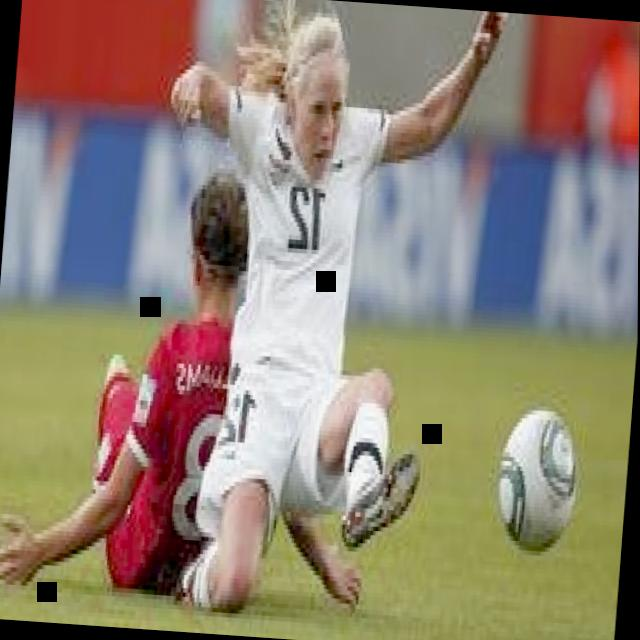Fall-Detected: (0, 127, 435, 620)
